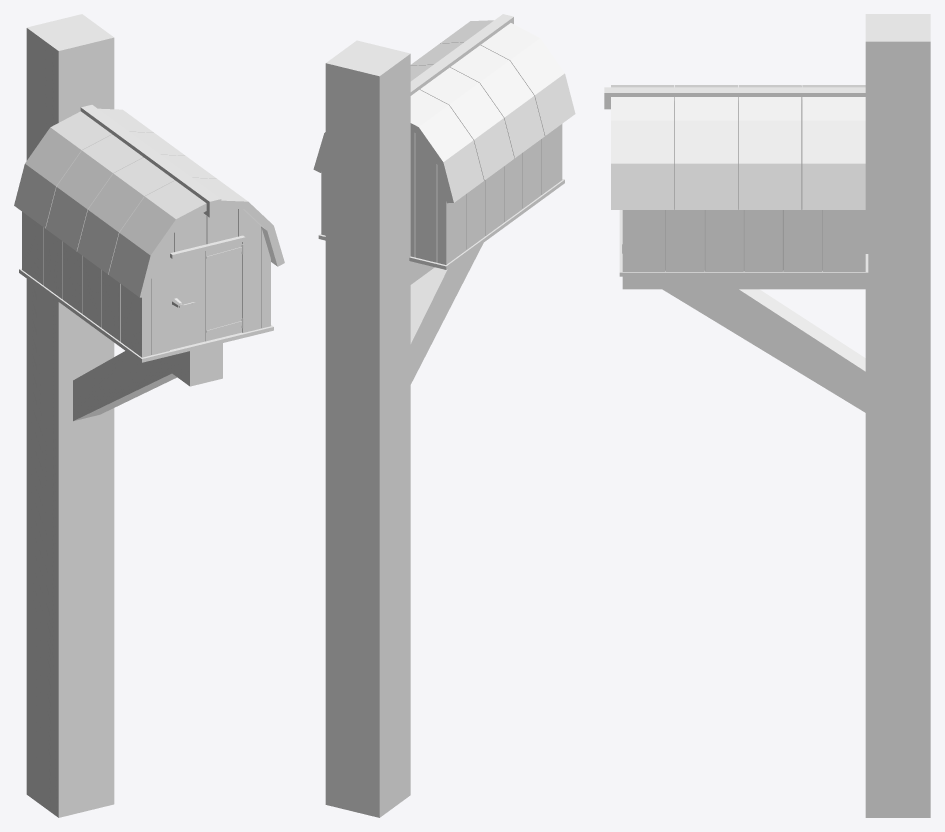
The model's file is Prop_Letterbox_03.glb.
3 renders of one model, left to right at view 1: azimuth 30°, elevation 25°; view 2: azimuth 150°, elevation 25°; view 3: azimuth 270°, elevation 25°, orthographic. The views are drawn at different scales.
Visible parts, largest first — view 1: Prop_Letterbox_03, Prop_Letterbox_Door_03; view 2: Prop_Letterbox_03; view 3: Prop_Letterbox_03.
Part boxes in pixels (box(x1,y1,x2,y2)): Prop_Letterbox_03: box(14, 14, 284, 817); Prop_Letterbox_Door_03: box(170, 242, 242, 349); Prop_Letterbox_03: box(313, 14, 575, 817); Prop_Letterbox_03: box(604, 14, 930, 817).
Size of the model in its own units: 0.2861 by 1.44 by 0.5498.
1 material, 1 textured.
